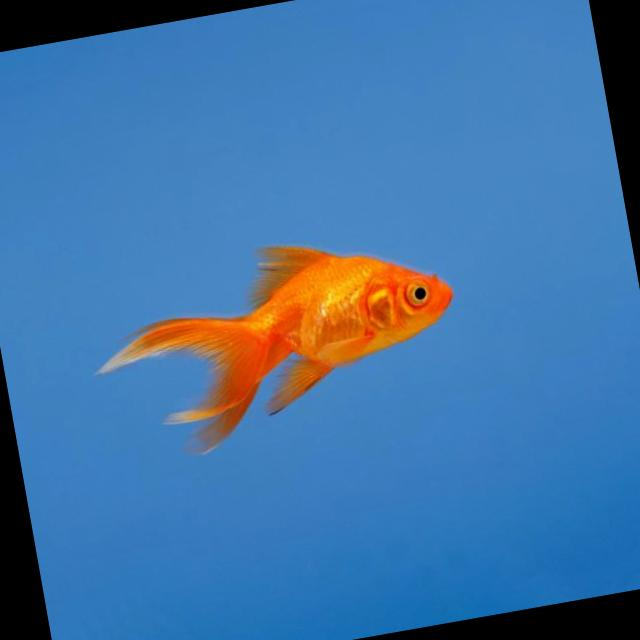GoldFish: (74, 210, 470, 471)
